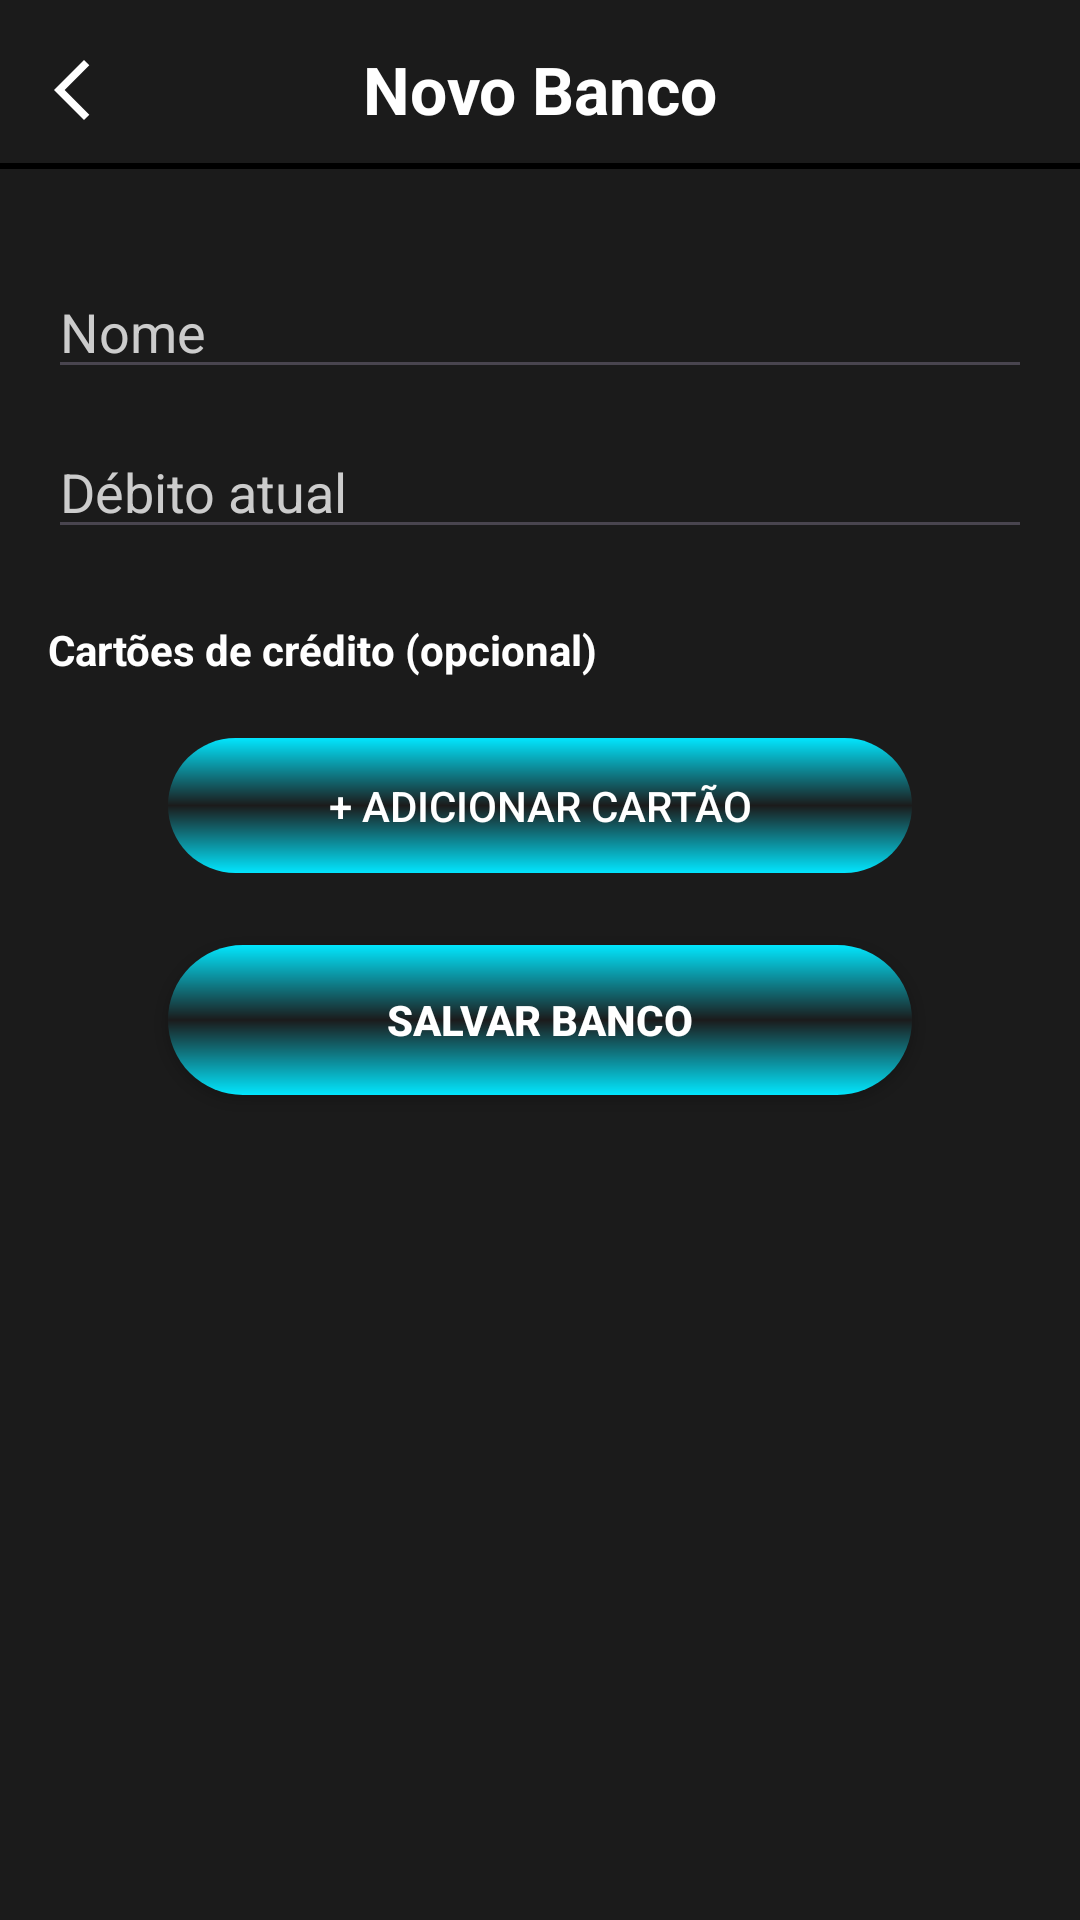

Icons on this 1080 × 1920 Android screen, each with its box as BBox(x1, y1, x2, y2):
to back: BBox(54, 60, 89, 120)
